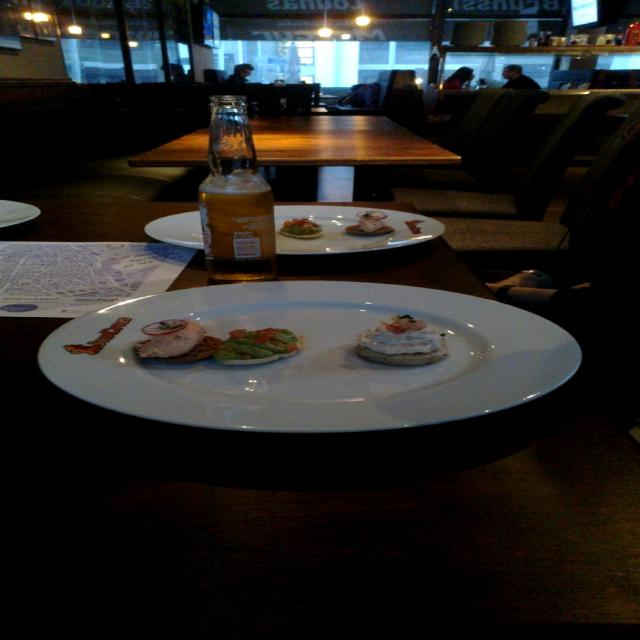non-organic waste: (29, 280, 582, 436), (106, 203, 444, 256)
